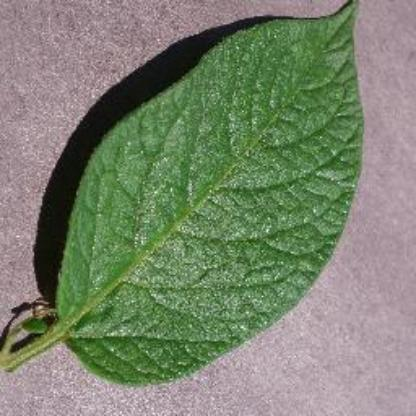Healthy-plant: (9, 1, 380, 384)
